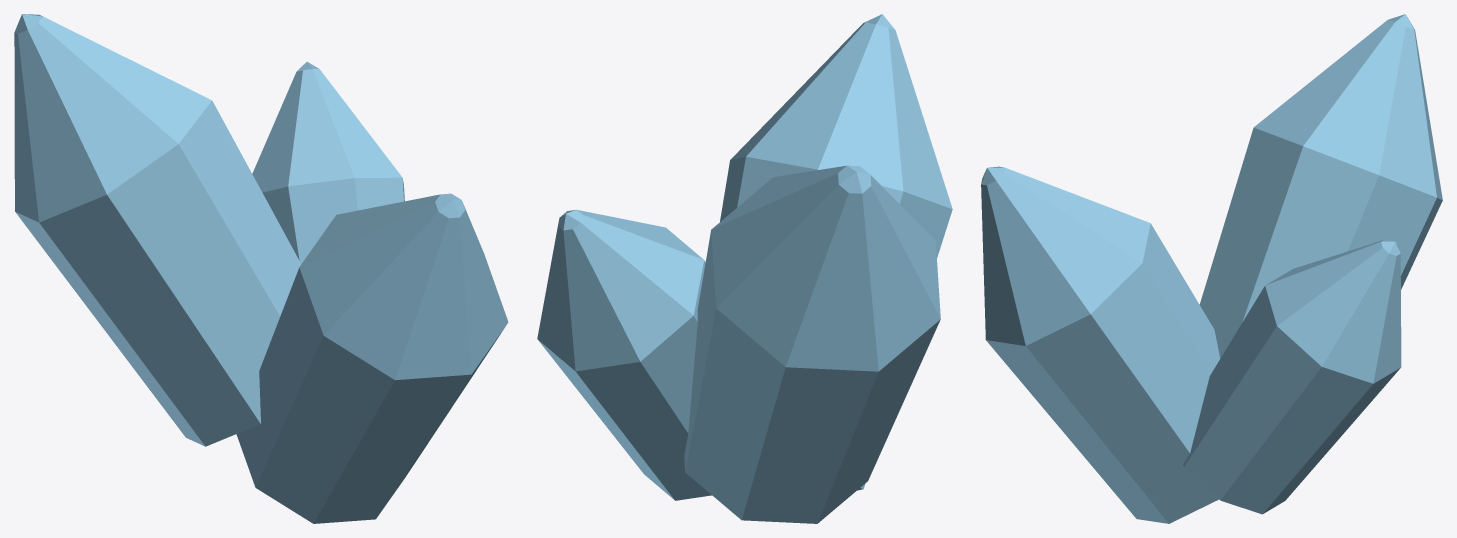
File: Cristal3.fbx
3 renders of one model, left to right at view 1: azimuth 30°, elevation 25°; view 2: azimuth 150°, elevation 25°; view 3: azimuth 270°, elevation 25°, orthographic. The views are drawn at different scales.
Visible parts, largest first — view 1: cristal.016; view 2: cristal.016; view 3: cristal.016.
Boxes of the visible parts, x1,y1,x2,y2 form: cristal.016: (14, 14, 508, 523); cristal.016: (537, 14, 952, 523); cristal.016: (981, 14, 1442, 523).
Size of the model in its own units: 87.48 by 102 by 104.
